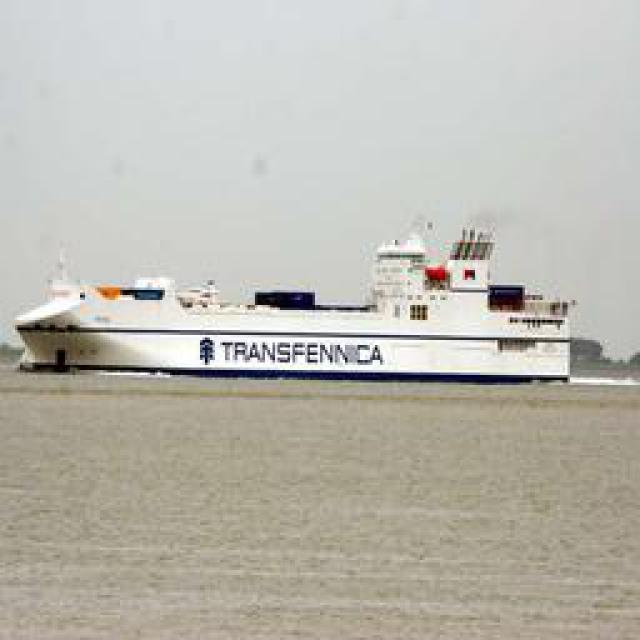Ship: (20, 209, 570, 384)
